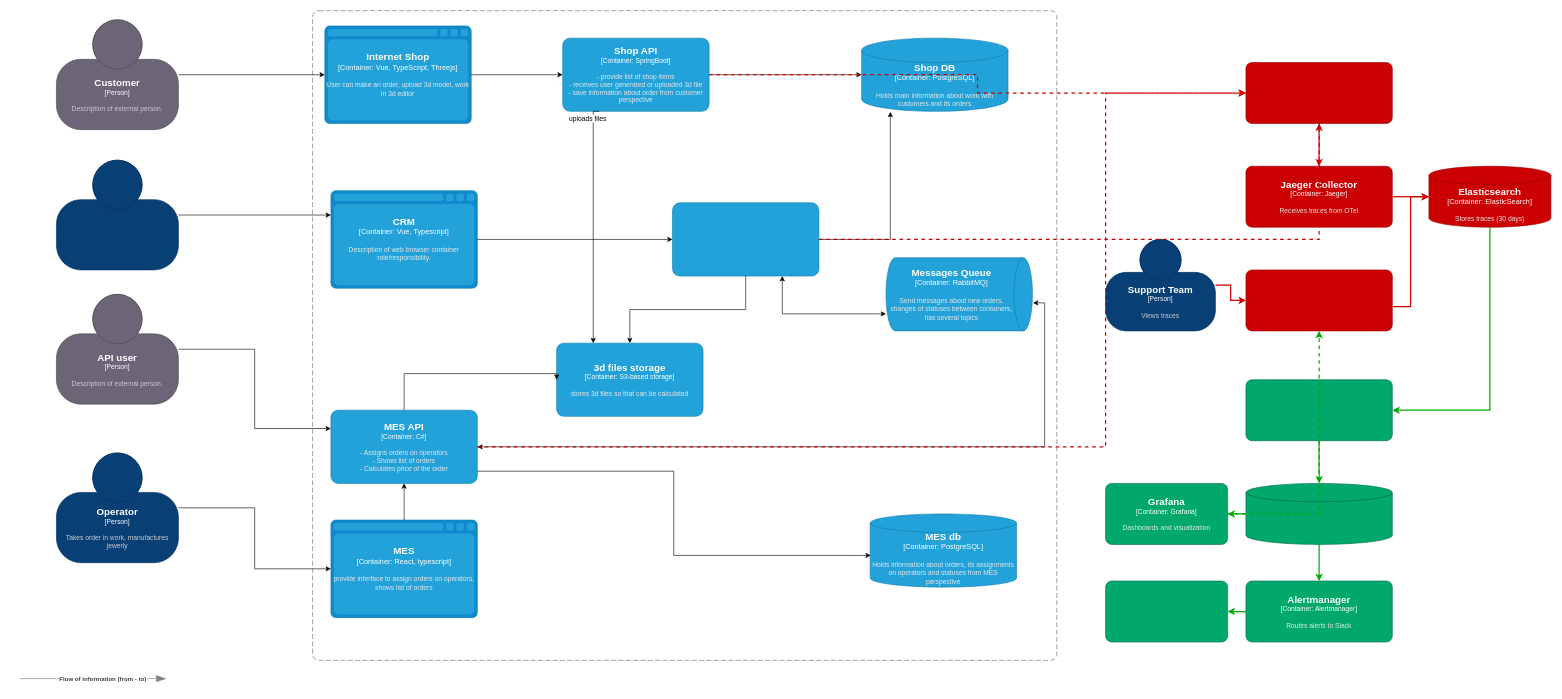
The diagram is 1562 pixels wide and 699 high, and some of its shapes have lost their labels. Here are the shapes that lost their labels. From the top down, the box of each, then its label:
(1245, 62, 1392, 124): OpenTelemetry Collector [Container: OTLP] Collects traces from all services
(56, 160, 178, 270): Seller [Person] Operates with order, confirms manufacturing for the user
(672, 202, 819, 276): CRM API [Container: SpringBoot] Description of container role/responsibility.
(1245, 269, 1392, 331): Jaeger Query & UI [Container: Jaeger] Web interface for traces
(312, 10, 1057, 660): Jewerly Store System [Software System]
(1245, 379, 1392, 441): Metrics Exporter [Container: Go/Python] Extracts metrics from traces
(1245, 483, 1392, 544): Prometheus [Container: Prometheus] Stores metrics, alerting rules
(1105, 580, 1228, 642): Slack [External System: Slack API] Receives alerts
